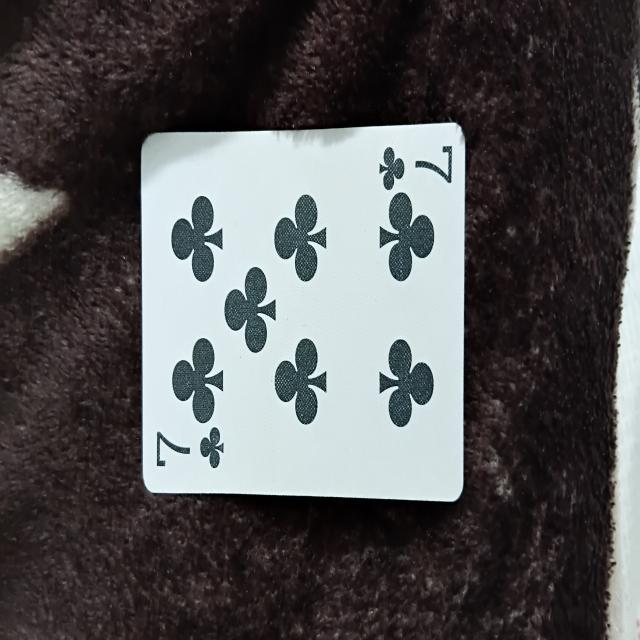7C: (139, 125, 467, 510)
